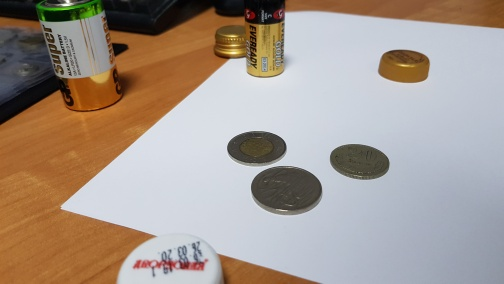coin: (250, 165, 324, 216), (329, 143, 391, 181), (226, 130, 287, 166)
